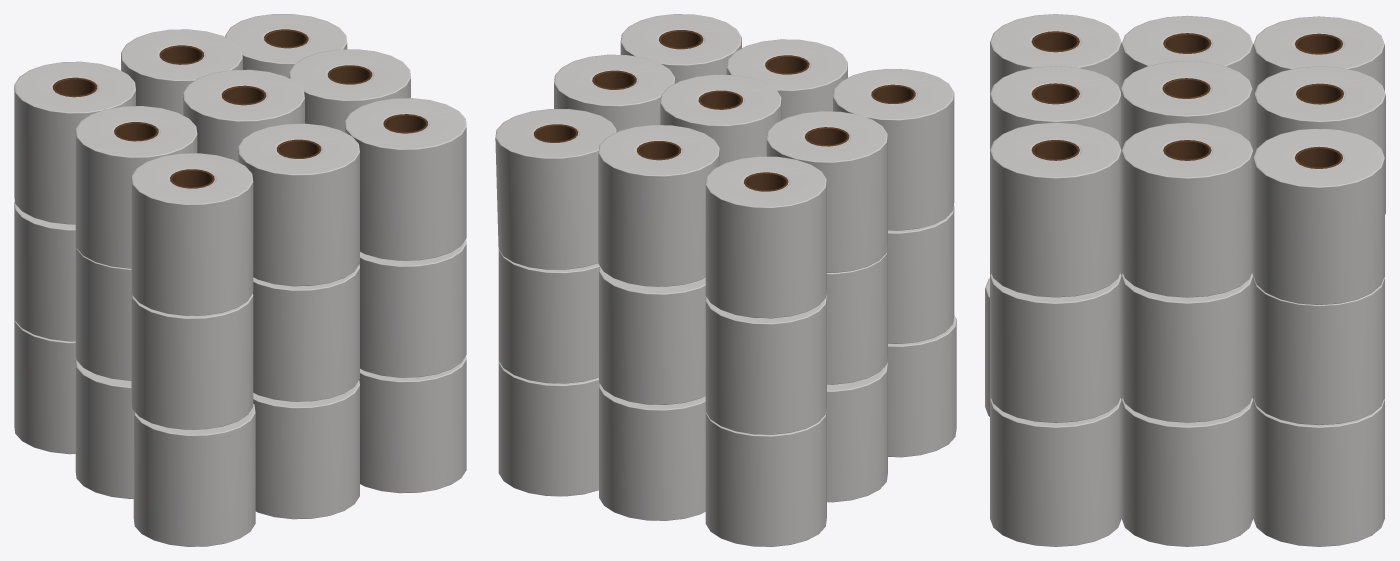
Rendered from TP_Roll_Pack_24X.fbx.
3 views of the same model, side by side, from view 1: azimuth 30°, elevation 25°; view 2: azimuth 150°, elevation 25°; view 3: azimuth 270°, elevation 25° (orthographic). The views are drawn at different scales.
Parts seen in each view (by area): view 1: RollStandard12; view 2: RollStandard12; view 3: RollStandard12.
Boxes of the visible parts, x1,y1,x2,y2 form: RollStandard12: (14,14,466,546); RollStandard12: (495,14,956,546); RollStandard12: (985,14,1385,546).
Bounding box in the file's own units: 3.1 × 3.21 × 3.08.
